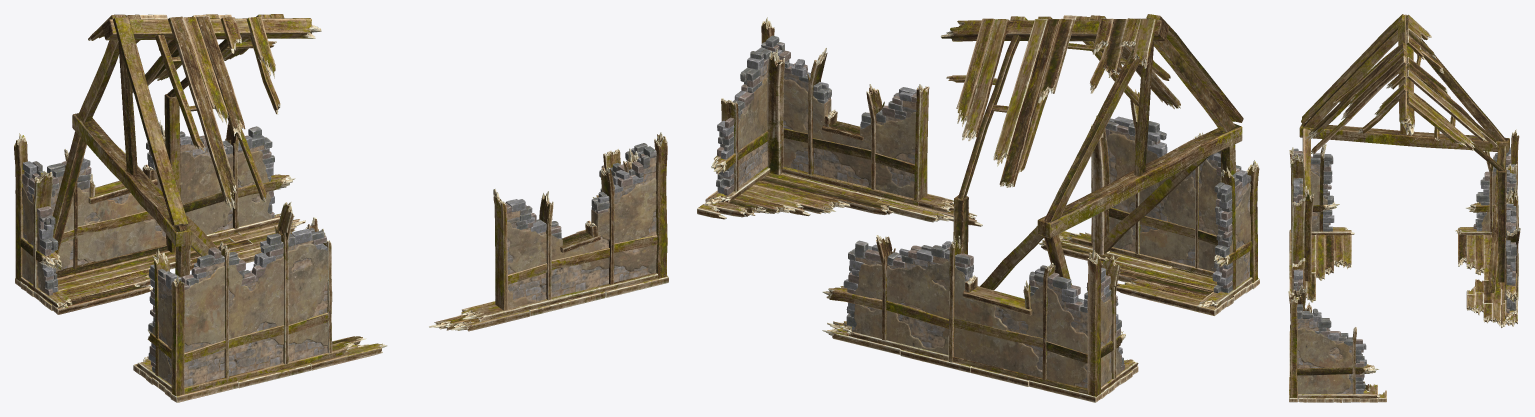
3 renders of one model, left to right at view 1: azimuth 30°, elevation 25°; view 2: azimuth 150°, elevation 25°; view 3: azimuth 270°, elevation 25°, orthographic. The views are drawn at different scales.
Visible parts, largest first — view 1: SM_House_01_Dmg_LOD0; view 2: SM_House_01_Dmg_LOD0; view 3: SM_House_01_Dmg_LOD0.
Boxes of the visible parts, x1=… form: SM_House_01_Dmg_LOD0: x1=14, y1=14, x2=668, y2=402; SM_House_01_Dmg_LOD0: x1=697, y1=14, x2=1259, y2=402; SM_House_01_Dmg_LOD0: x1=1288, y1=14, x2=1520, y2=402.
Bounding box in the file's own units: 11.28 × 7.05 × 6.54.
Materials: 4 (4 with a texture image).
